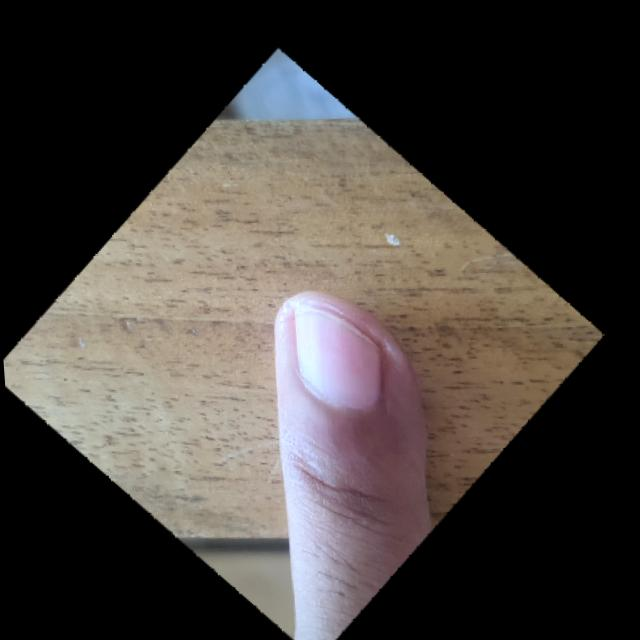Nail: (292, 306, 377, 407)
